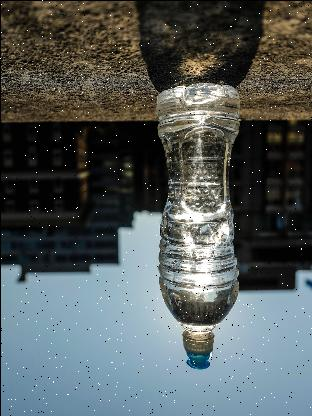Plastic Bottle: (149, 69, 243, 372)
